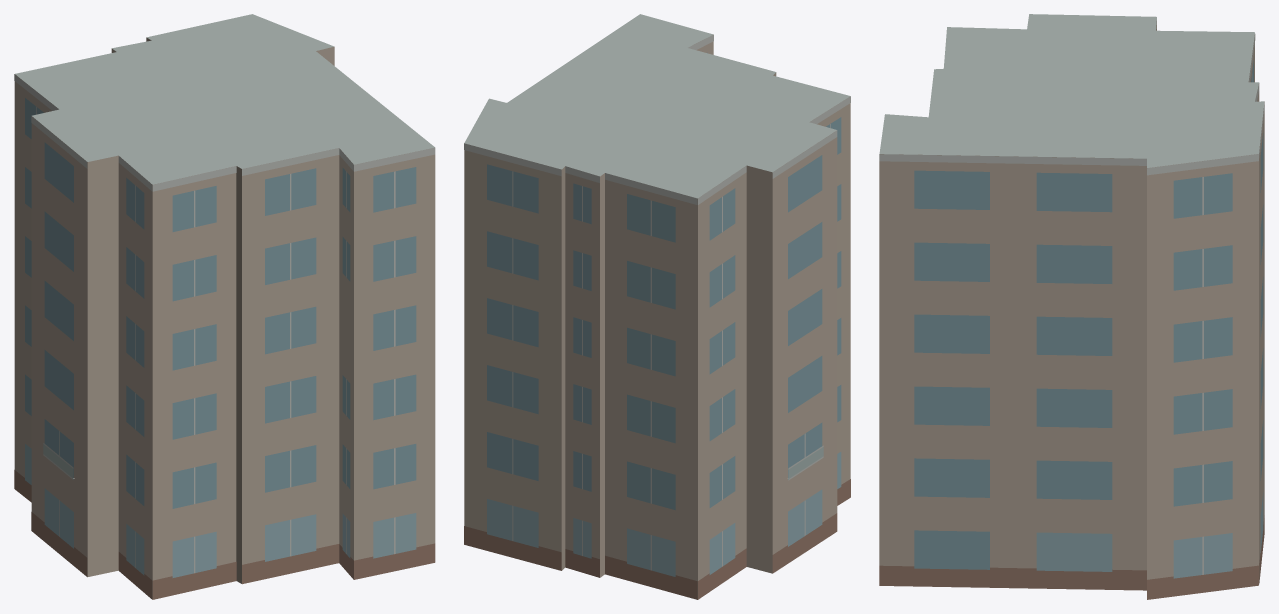
File: survey-upis-33006211.glb
The picture shows the model from 3 angles, left to right: view 1: azimuth 30°, elevation 25°; view 2: azimuth 150°, elevation 25°; view 3: azimuth 270°, elevation 25°; orthographic projection. The views are drawn at different scales.
Parts seen in each view (by area): view 1: survey-upis-33006211.tmp; view 2: survey-upis-33006211.tmp; view 3: survey-upis-33006211.tmp.
Boxes of the visible parts, bbox=[...] form: survey-upis-33006211.tmp: bbox=[14, 14, 435, 599]; survey-upis-33006211.tmp: bbox=[464, 14, 850, 599]; survey-upis-33006211.tmp: bbox=[879, 14, 1264, 599].
Bounding box in the file's own units: 11.11 × 14.5 × 11.73.
